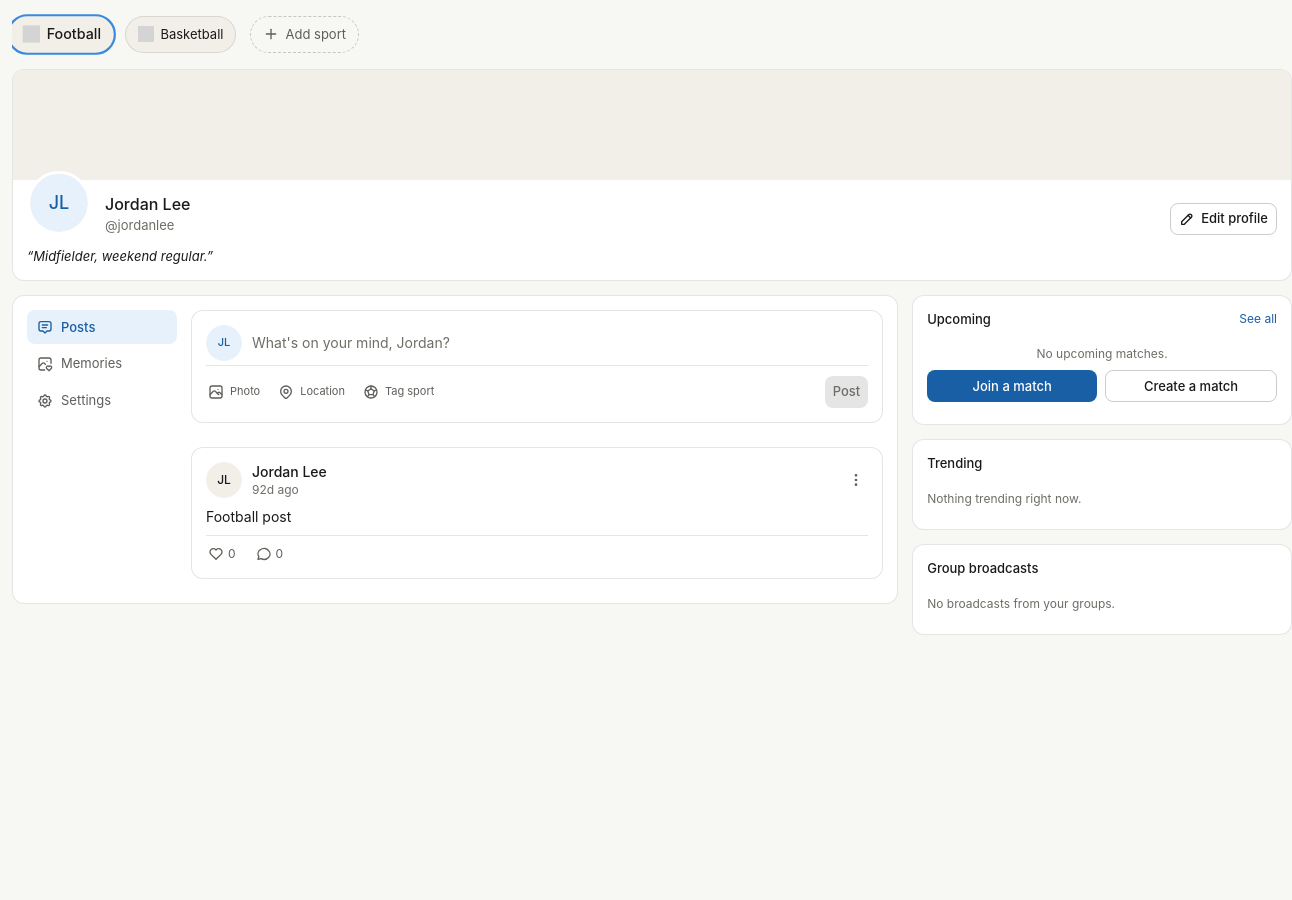
ProfilePage › renders Posts by default and switches to Memories/Settings content on tab click
Check: the text "Football post" is shown, box [206, 508, 291, 524]
Check: the element "upcoming matches" is shown, box [912, 294, 1291, 425]
Click the tab "Memories". click: (102, 364)
box: [27, 346, 177, 381]
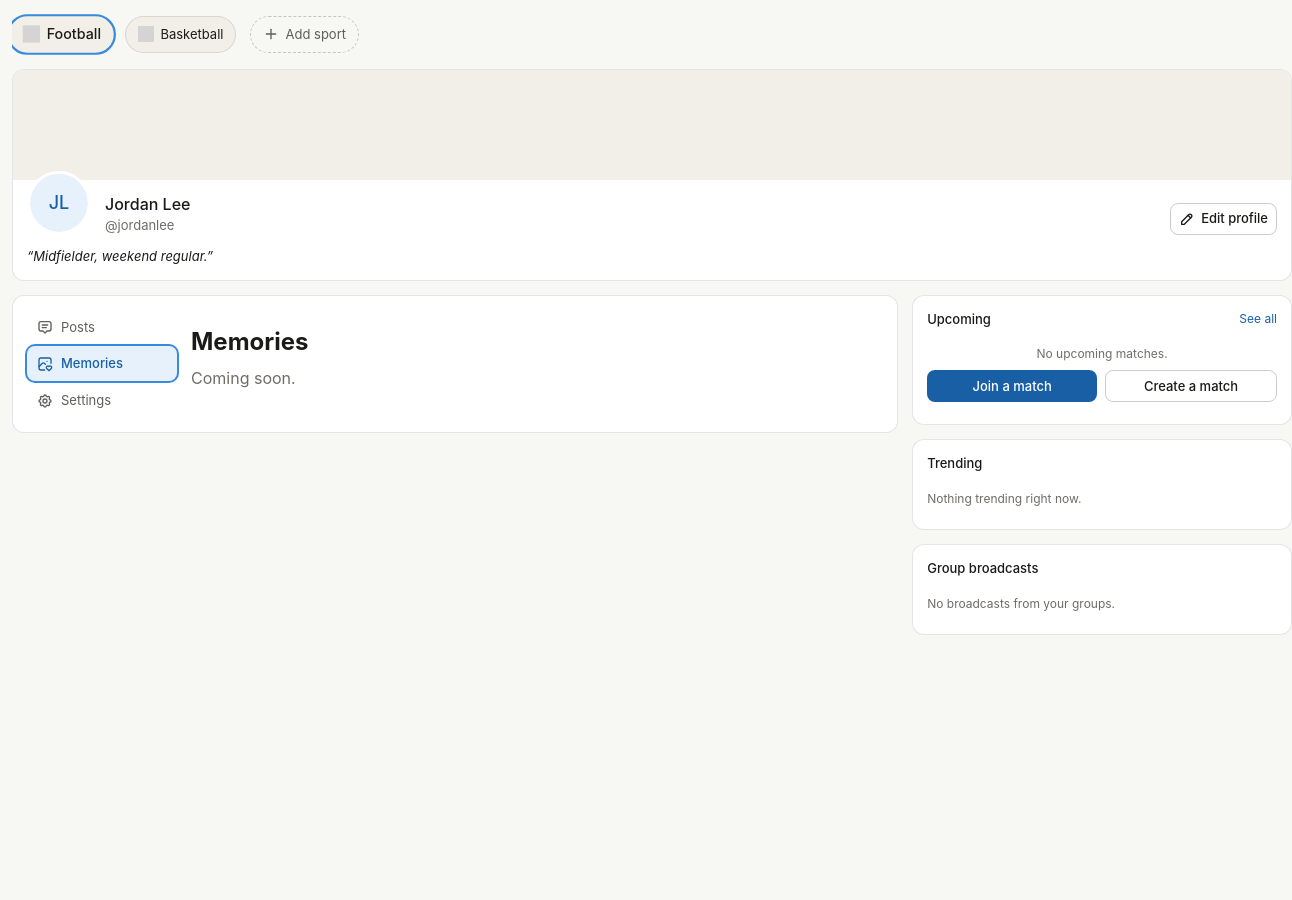
Check: the heading "Memories" is shown, box [191, 326, 308, 356]
Check: the text "Football post" is gone
Click the tab "Settings". click: (102, 401)
box: [27, 383, 177, 418]
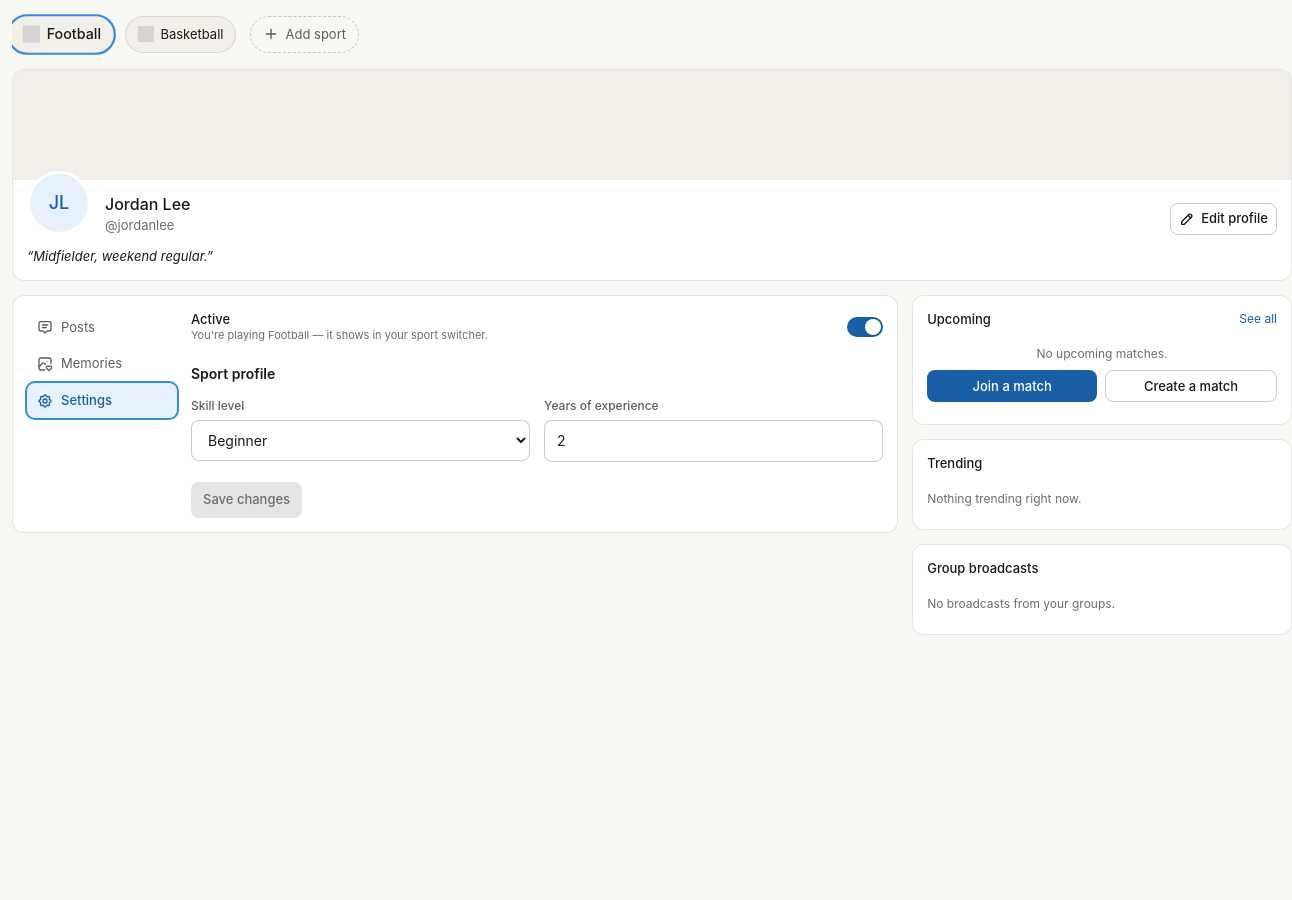
Check: the dropdown labelled "Skill level" shows "Beginner", box [191, 420, 530, 461]
